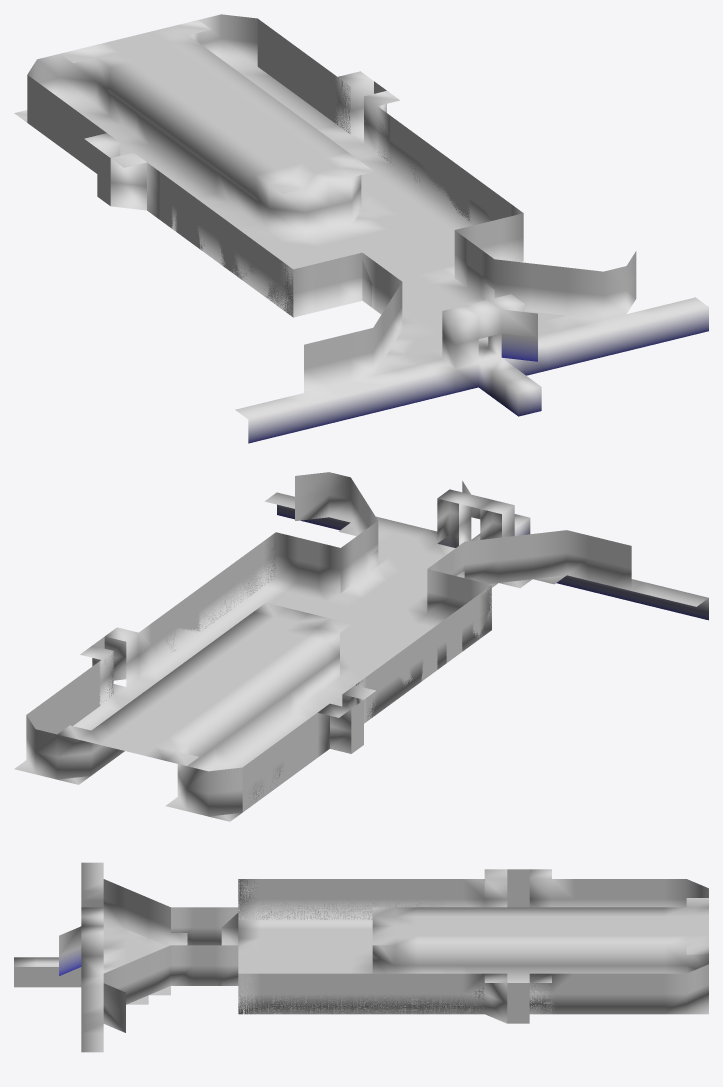
The model's file is evencare3.obj.
3 views of the same model, one above another, from view 1: azimuth 30°, elevation 25°; view 2: azimuth 150°, elevation 25°; view 3: azimuth 270°, elevation 25° (orthographic). The views are drawn at different scales.
Parts seen in each view (by area): view 1: Plane.003; view 2: Plane.003; view 3: Plane.003.
Boxes of the visible parts, box(x1,y1,x2,y2) form: Plane.003: box(14, 14, 708, 443); Plane.003: box(14, 472, 708, 821); Plane.003: box(14, 862, 708, 1052).
Bounding box in the file's own units: 20 × 3 × 31.
